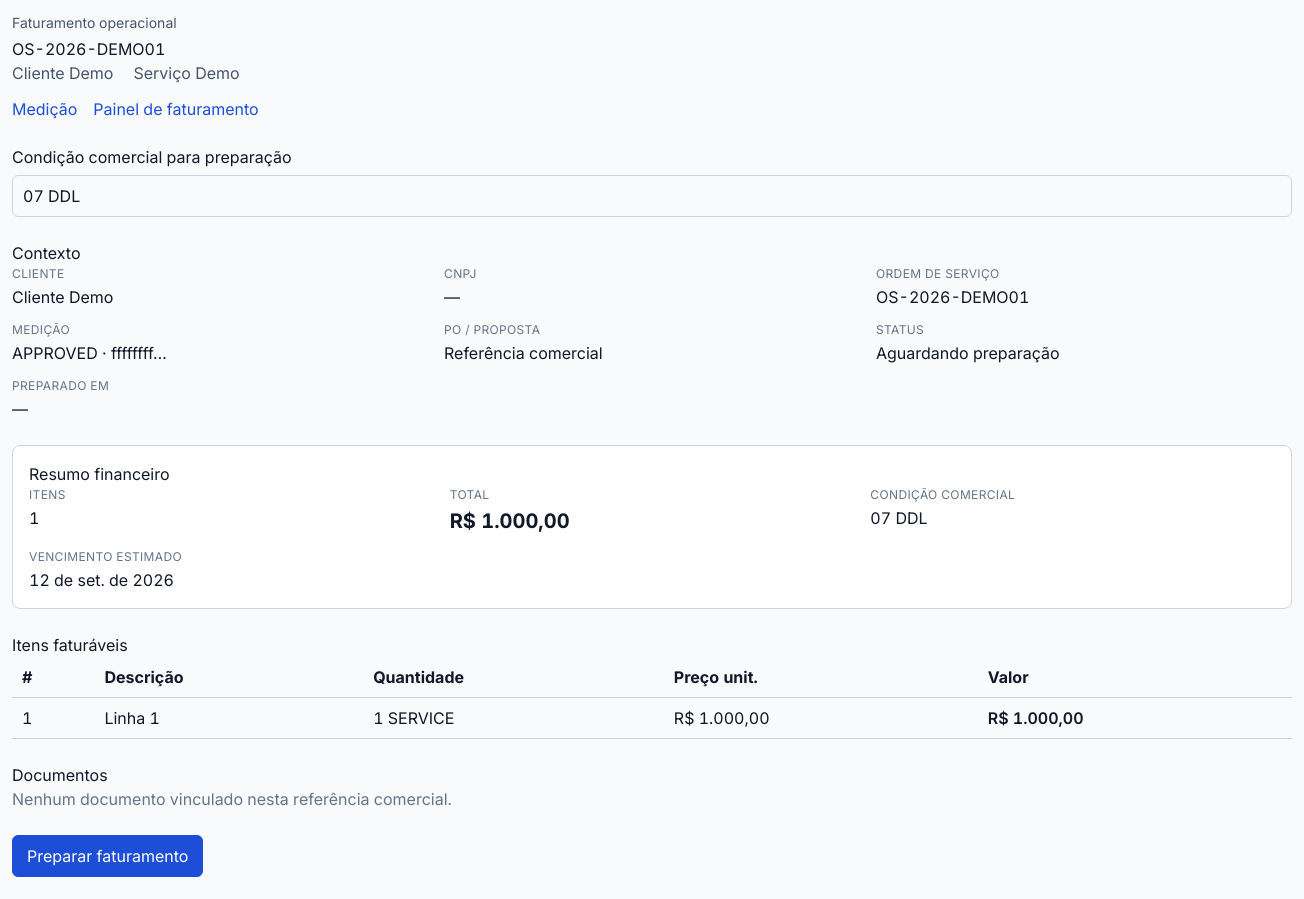
it: ServiceOrderBillingPage › shows commercial terms mismatch prominently
This screenshot has width=1304, height=899.
Replace the text in the field labelled "Condição comercial para preparação" with "À vista" at (652, 196), box left=12, top=175, right=1292, bottom=217
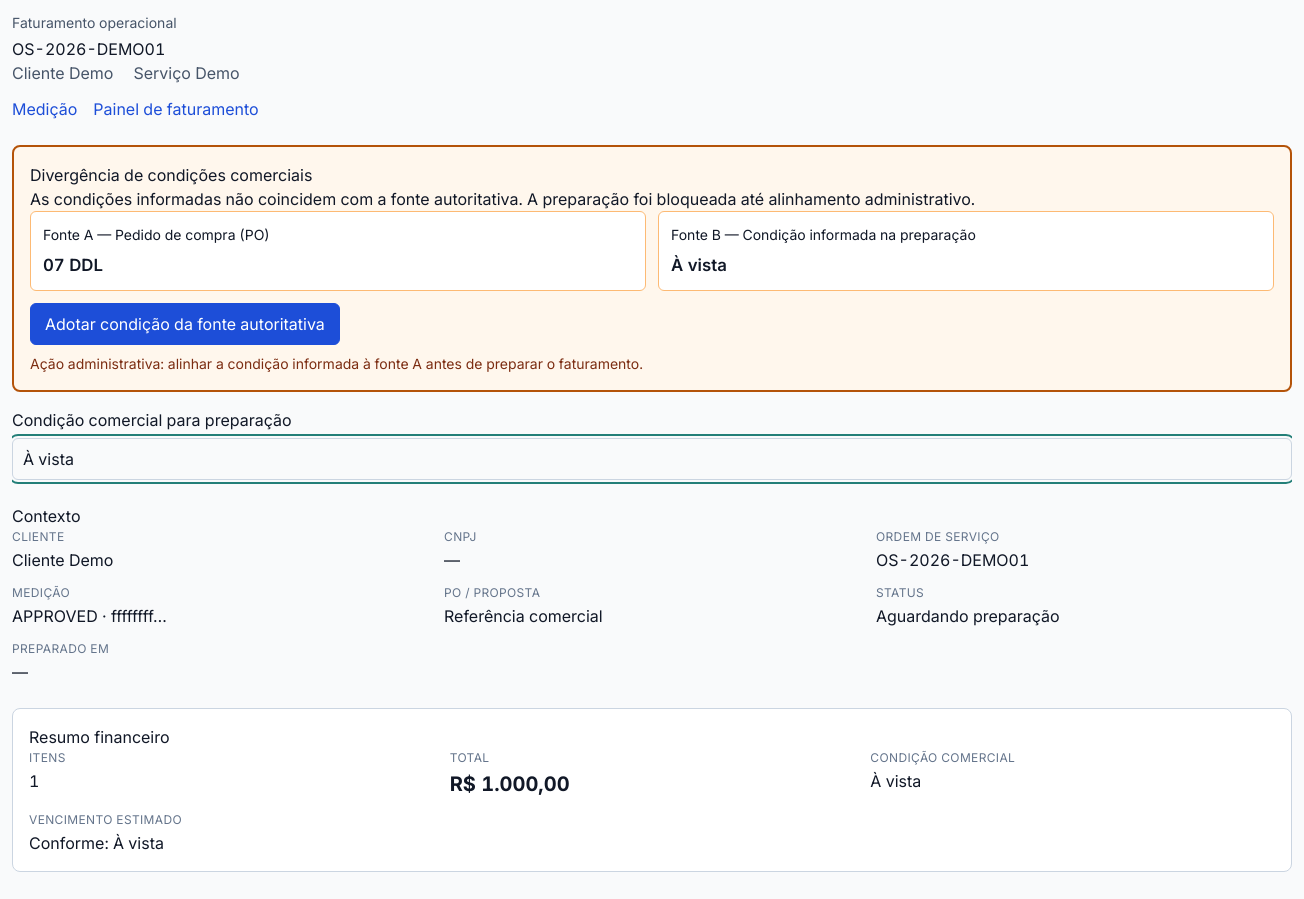
Result: the message "Divergência de condições comerciais" is shown at left=12, top=145, right=1292, bottom=392
Result: the heading "Fonte A — Pedido de compra (PO)" is shown at left=43, top=226, right=270, bottom=243
Result: the text "07 DDL" is shown at left=43, top=255, right=103, bottom=275
